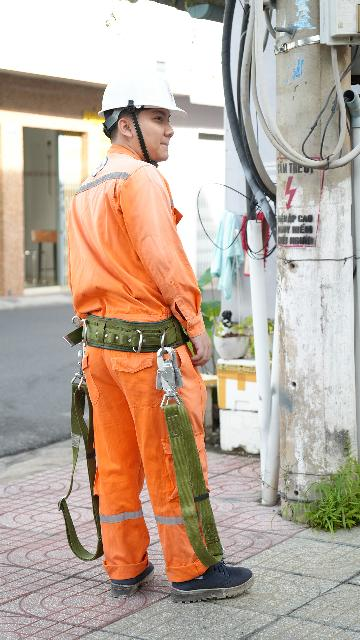harness: (54, 303, 212, 363)
helmet: (78, 66, 198, 127)
shoes: (152, 551, 278, 599), (100, 552, 160, 601)
